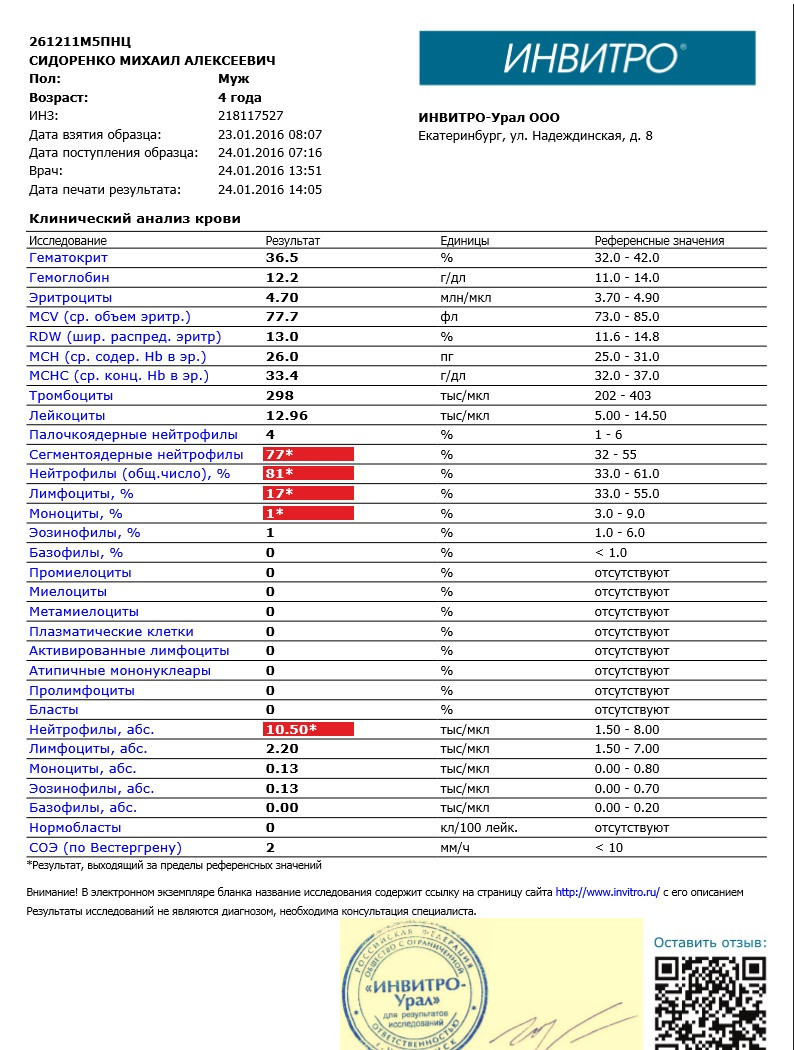column: (27, 231, 243, 856), (593, 231, 725, 856), (439, 231, 517, 856), (264, 231, 321, 856)
